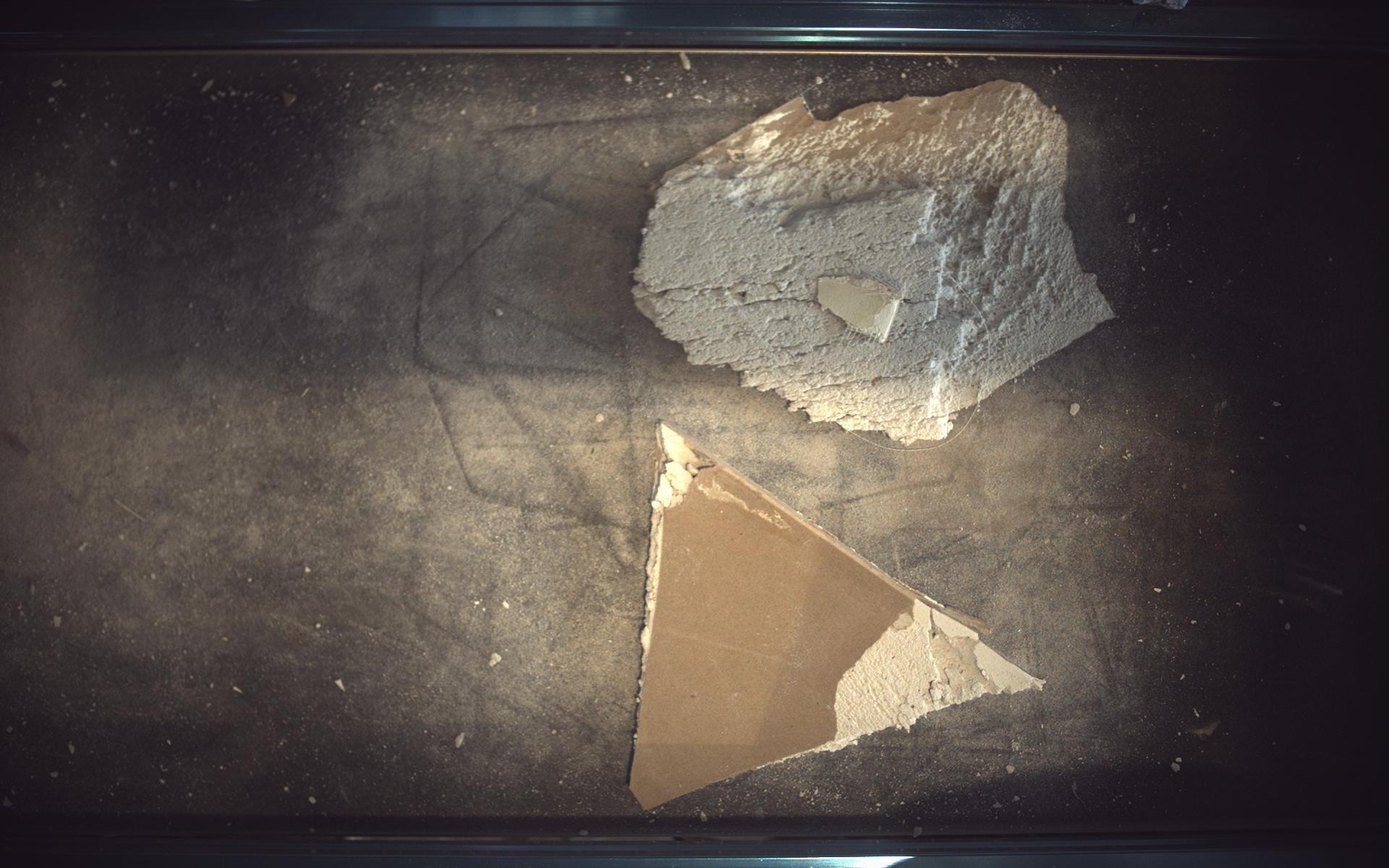gypsum_board: (634, 79, 1115, 444), (631, 424, 1045, 811)
